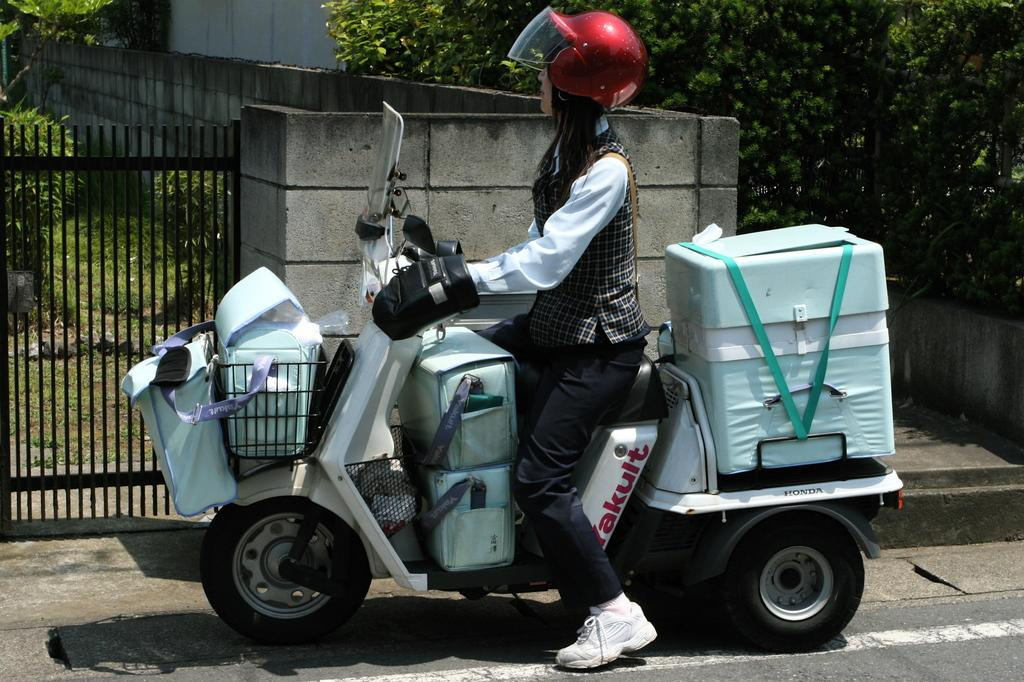helmet: (507, 5, 649, 110)
